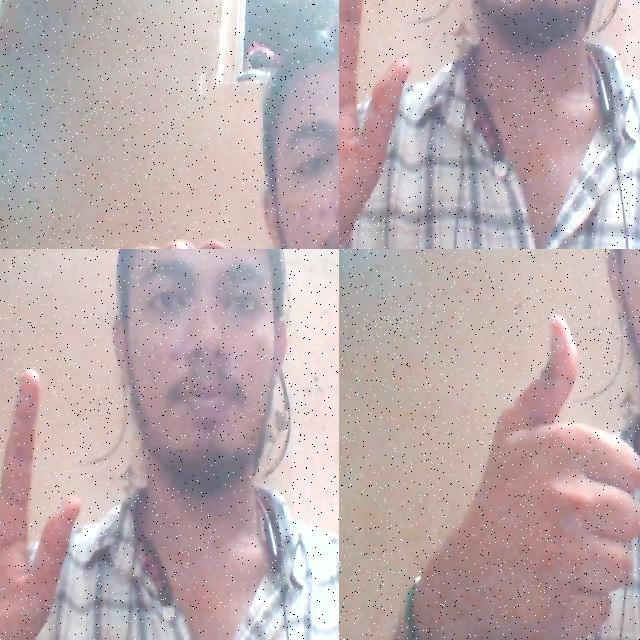Hello: (0, 314, 94, 640), (339, 0, 434, 249)
Yes: (465, 309, 640, 640)
